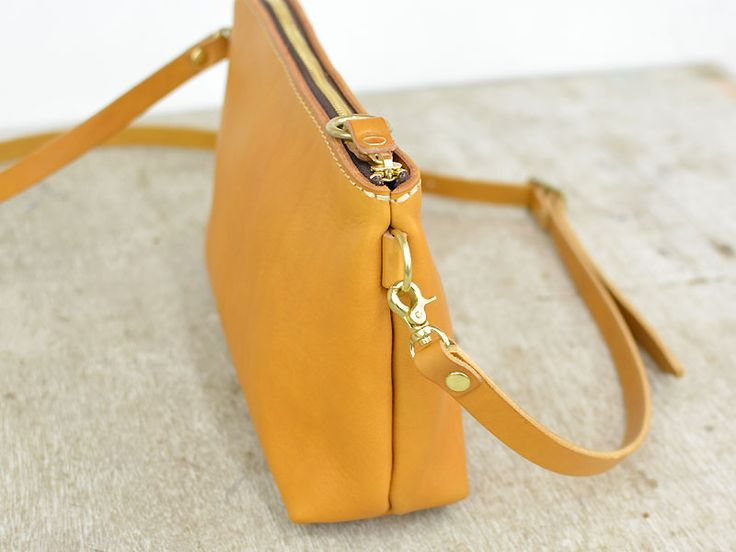cuero: (1, 1, 687, 525)
